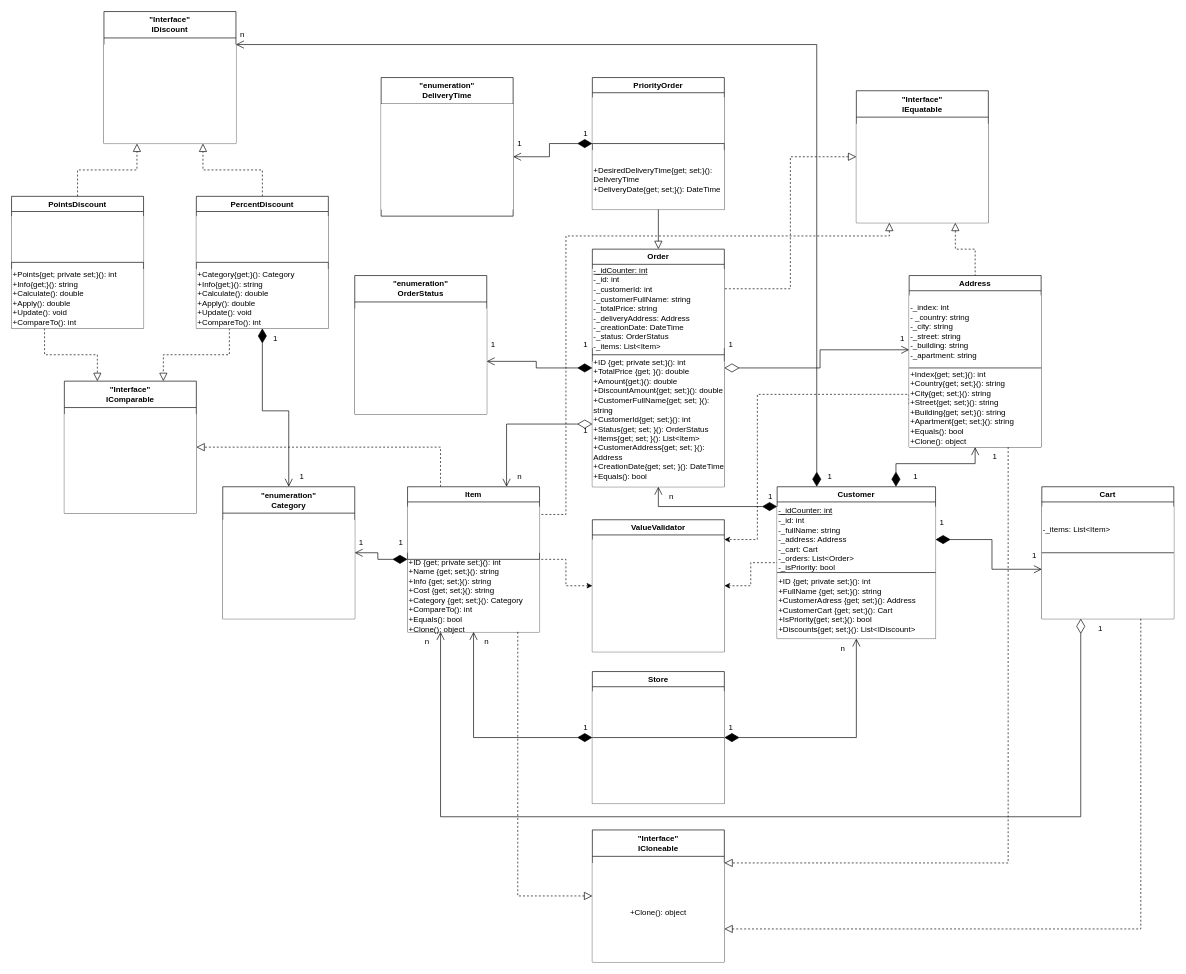
Image size: 1186x974. Some labels were removed from this diagram. Each missing label, with the centre of its shape:
"+ Items{ get; set; }(): List<Item> + Amount{ get; }(): float +Clone(): object" belongs at pixel 1107 585.
"+ Items{ get; set; }(): List<Item> + Customers{ get; set; }(): List<Customer >" belongs at pixel 658 770.
"+AssertStringOnLength(string, int, string): void" belongs at pixel 658 595.
"+CompareTo(): int" belongs at pixel 130 463.
"+Equals(): bool" belongs at pixel 922 172.
"+Info{get;}(): string +Calculate(): double +Apply(): double +Update(): void" belongs at pixel 170 93.
"-_deliveryTime: DeliveryTime -_deliveryDate: DateTime" belongs at pixel 658 120.
"-_idCounter: int -_id: int -_name: string -_info: string -_cost: int" belongs at pixel 473 529.
"-_items: List<Item> -_customers: List<Customer>" belongs at pixel 658 714.
"-_percent: int -_category: Category -_totalSum: double" belongs at pixel 262 239.
"-_points: int" belongs at pixel 77 239.
"Food, Clothes, Boots, Toys, Electronics, Accessories, Books" belongs at pixel 288 568.
"Morning, Lunch, Afternoon, Evening, LateEvening, Night" belongs at pixel 447 156.
"New, Proccessing, Assembly, Sent, Delivered, Returned, Abandoned" belongs at pixel 420 361.
